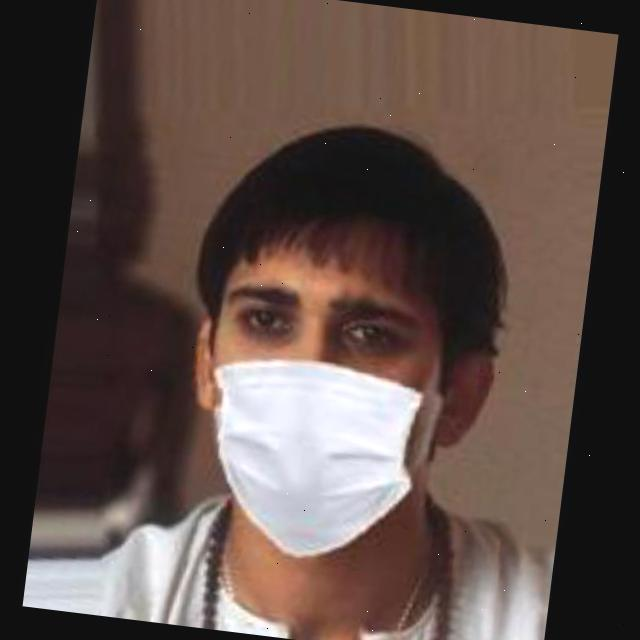suspicion: (99, 118, 556, 616)
